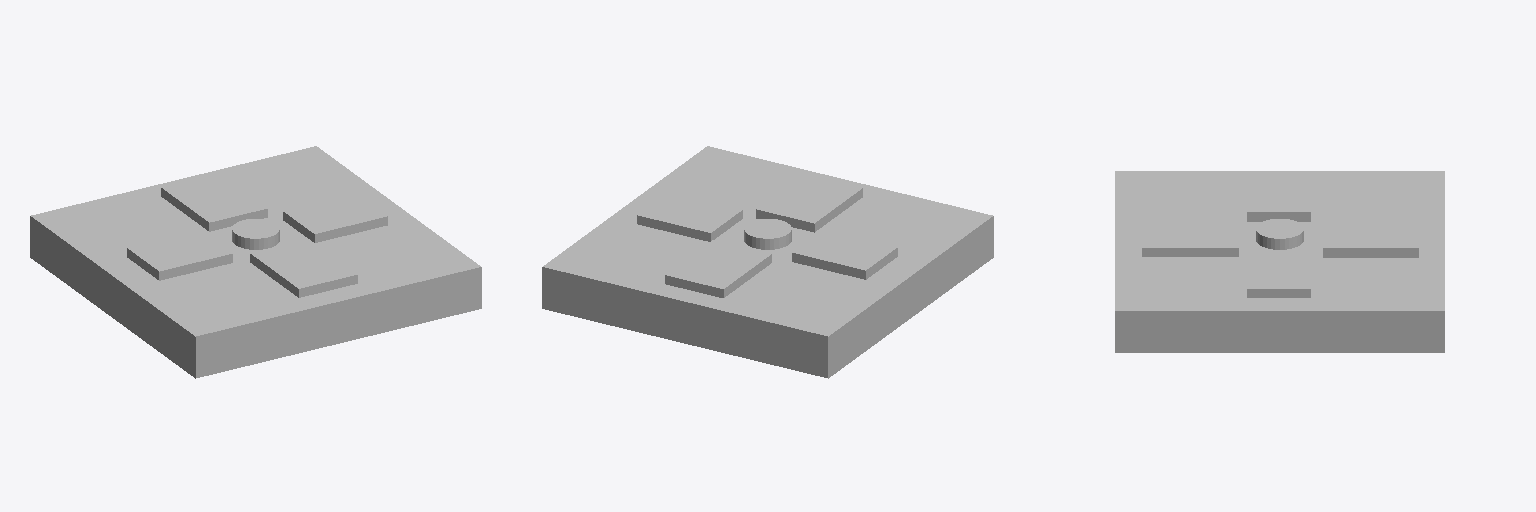
Rendered from lifesupport.obj.
3 renders of one model, left to right at view 1: azimuth 30°, elevation 25°; view 2: azimuth 150°, elevation 25°; view 3: azimuth 270°, elevation 25°, orthographic.
Parts seen in each view (by area): view 1: Cube, Plane.001, Plane.002, Plane, Plane.003, Cone; view 2: Cube, Plane.002, Plane.001, Plane, Plane.003, Cone; view 3: Cube, Plane.002, Plane.001, Plane.003, Plane, Cone.
Part boxes in pixels (left/top/right/bottom): Cube: left=30, top=146, right=481, bottom=378; Plane.001: left=250, top=239, right=357, bottom=297; Plane.002: left=161, top=173, right=267, bottom=231; Plane: left=127, top=230, right=232, bottom=280; Plane.003: left=283, top=193, right=387, bottom=242; Cone: left=232, top=219, right=279, bottom=249; Cube: left=542, top=146, right=993, bottom=378; Plane.002: left=665, top=240, right=771, bottom=297; Plane.001: left=756, top=174, right=862, bottom=232; Plane: left=792, top=229, right=897, bottom=279; Plane.003: left=637, top=192, right=742, bottom=241; Cone: left=744, top=219, right=791, bottom=249; Cube: left=1115, top=171, right=1444, bottom=352; Plane.002: left=1323, top=220, right=1418, bottom=257; Plane.001: left=1142, top=220, right=1238, bottom=256; Plane.003: left=1247, top=253, right=1310, bottom=297; Plane: left=1247, top=176, right=1310, bottom=221; Cone: left=1256, top=219, right=1303, bottom=249.
Bounding box in the file's own units: 1.07 × 0.1955 × 1.07.